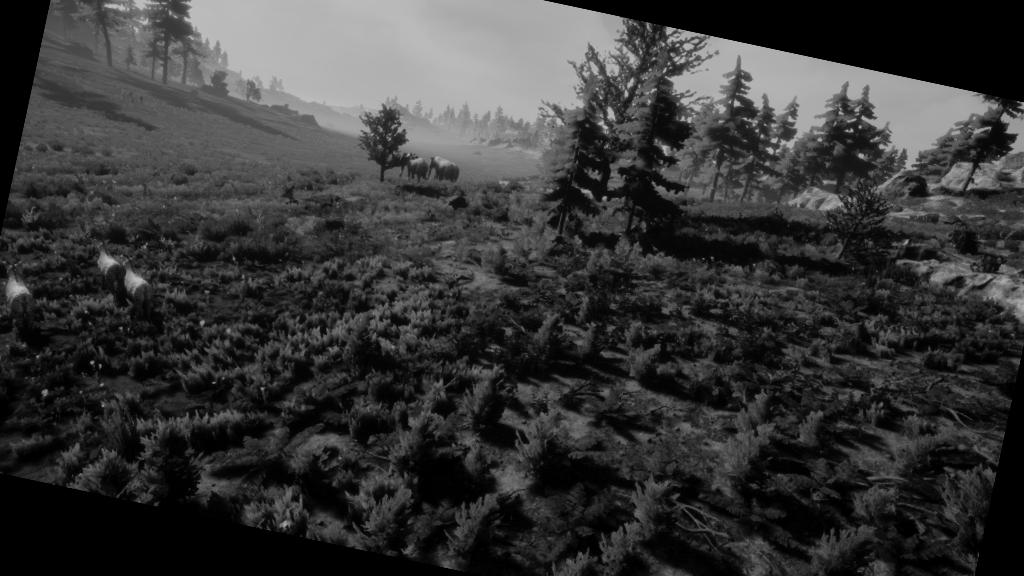elephant: (388, 134, 442, 197)
zebra: (0, 247, 70, 349), (106, 242, 182, 334), (72, 232, 138, 308)
